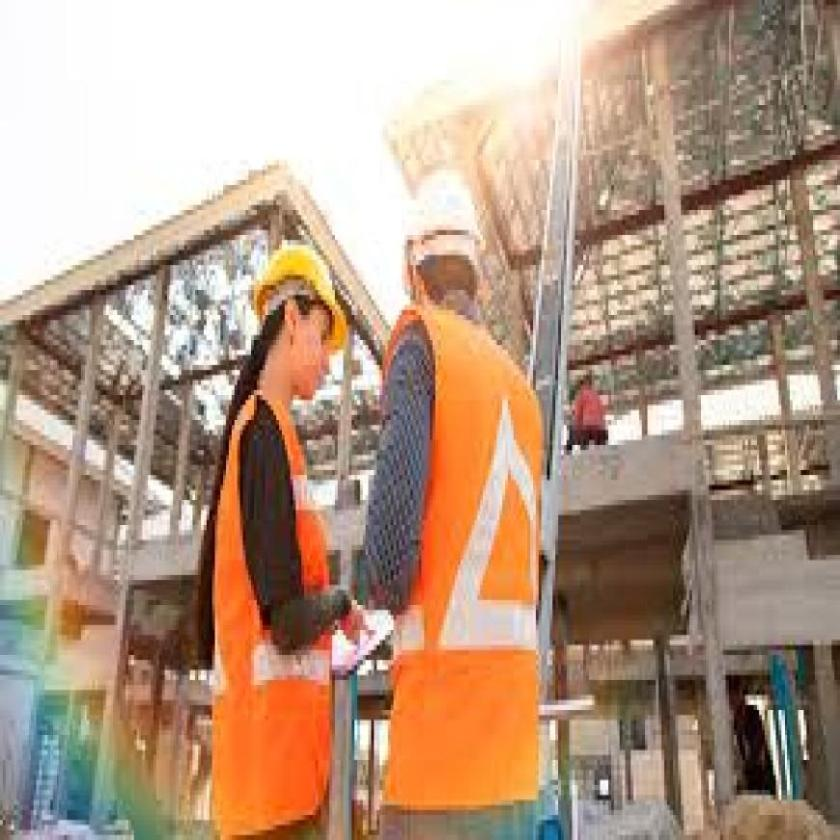Con_casco: (248, 240, 351, 420), (401, 161, 492, 328)
